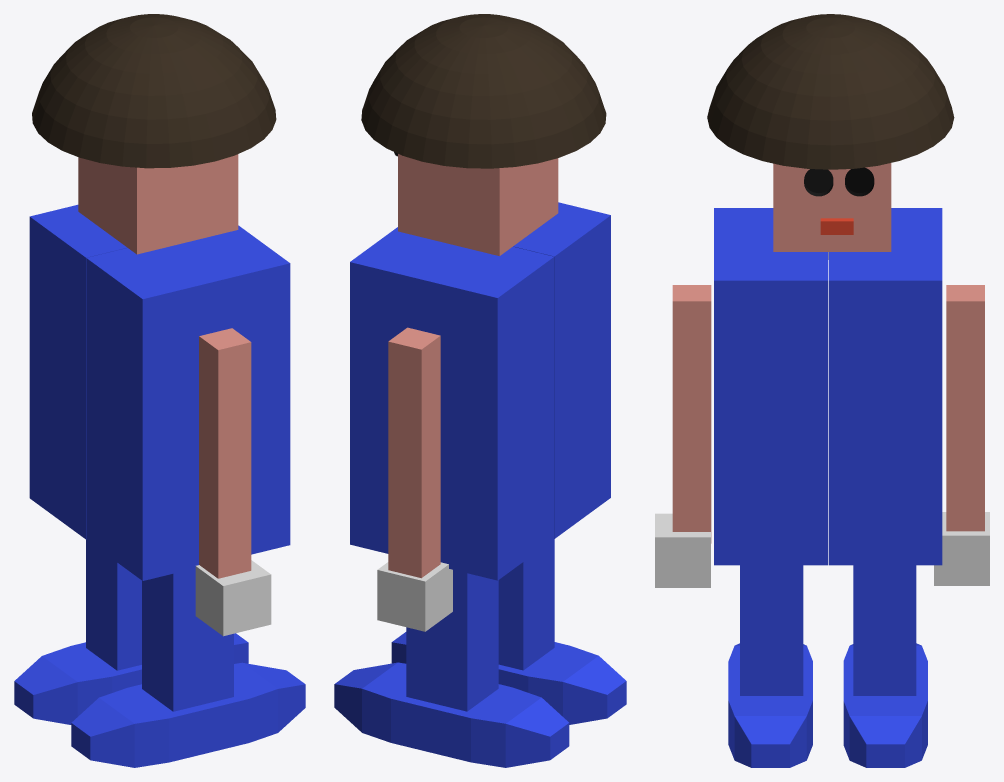
The model's file is person.gltf.
The picture shows the model from 3 angles, left to right: view 1: azimuth 30°, elevation 25°; view 2: azimuth 150°, elevation 25°; view 3: azimuth 270°, elevation 25°; orthographic projection.
Visible parts, largest first — view 1: Cube.003, Sphere, Cube.008, Cube.001, Cube.005; view 2: Cube.003, Sphere, Cube.006, Cube.001, Cube.007; view 3: Cube.003, Sphere, Cube.008, Cube.006, Cube.001, Cube.005, Cube.007, Circle, Circle.001, Cube.009.
Boxes of the visible parts, bbox=[...] form: Cube.003: bbox=[14, 204, 305, 767]; Sphere: bbox=[32, 14, 276, 168]; Cube.008: bbox=[199, 328, 251, 578]; Cube.001: bbox=[78, 154, 238, 254]; Cube.005: bbox=[195, 560, 271, 636]; Cube.003: bbox=[334, 202, 626, 767]; Sphere: bbox=[361, 14, 606, 168]; Cube.006: bbox=[388, 327, 440, 578]; Cube.001: bbox=[398, 154, 558, 255]; Cube.007: bbox=[377, 562, 452, 631]; Cube.003: bbox=[714, 208, 942, 767]; Sphere: bbox=[707, 14, 954, 169]; Cube.008: bbox=[672, 285, 711, 543]; Cube.006: bbox=[946, 285, 984, 531]; Cube.001: bbox=[773, 163, 891, 251]; Cube.005: bbox=[655, 513, 710, 587]; Cube.007: bbox=[934, 512, 989, 585]; Circle: bbox=[845, 167, 874, 196]; Circle.001: bbox=[804, 169, 833, 196]; Cube.009: bbox=[820, 218, 853, 234].
Bounding box in the file's own units: 1.57 × 4.75 × 2.07.
